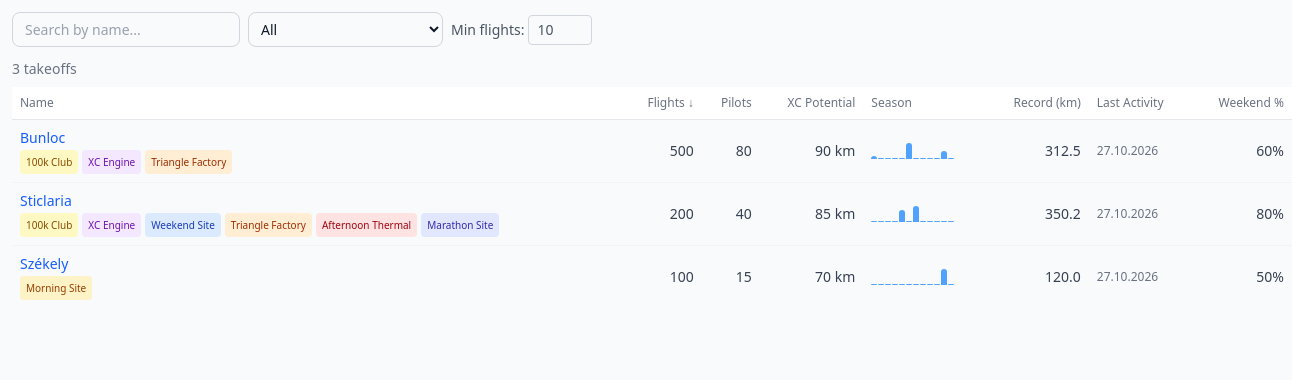
Scenario: TakeoffsTable › filters takeoffs by search input ignoring diacritics
Note: Default is "all", clear minFlights to show all including Székely
Clear the number field at (560, 30), box [528,14,592,44]
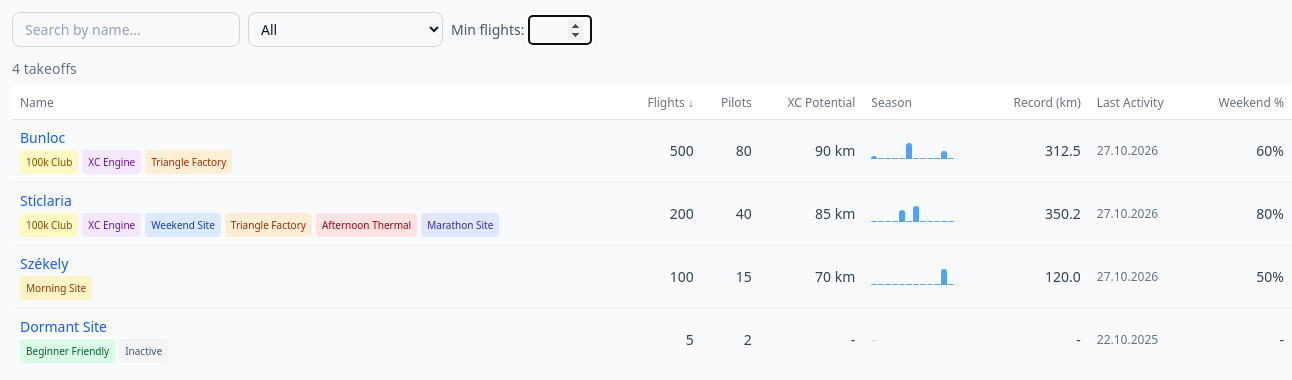
Type "Szekely" into the field with placeholder "Search by name..." at (126, 30), box [12,12,240,47]
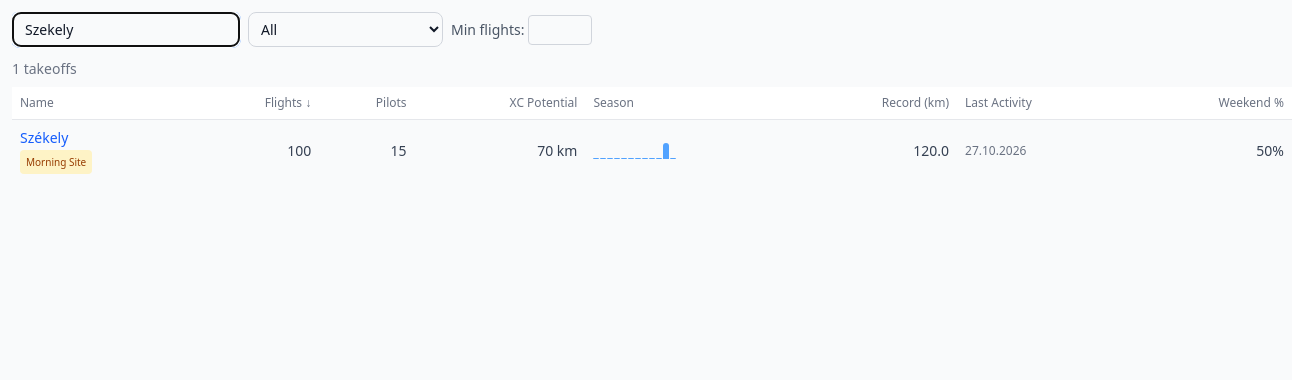
Check: the link "Székely" is shown, box [20,128,68,147]
Check: the link "Bunloc" is gone
Check: the text "1 takeoffs" is shown, box [12,59,77,78]
